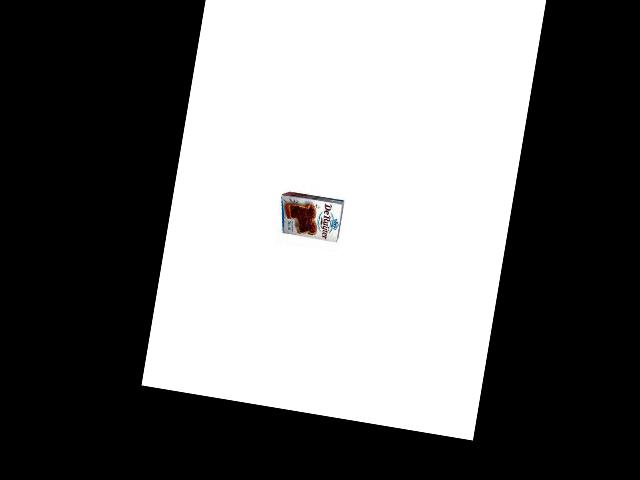chocolate: (276, 184, 349, 248)
